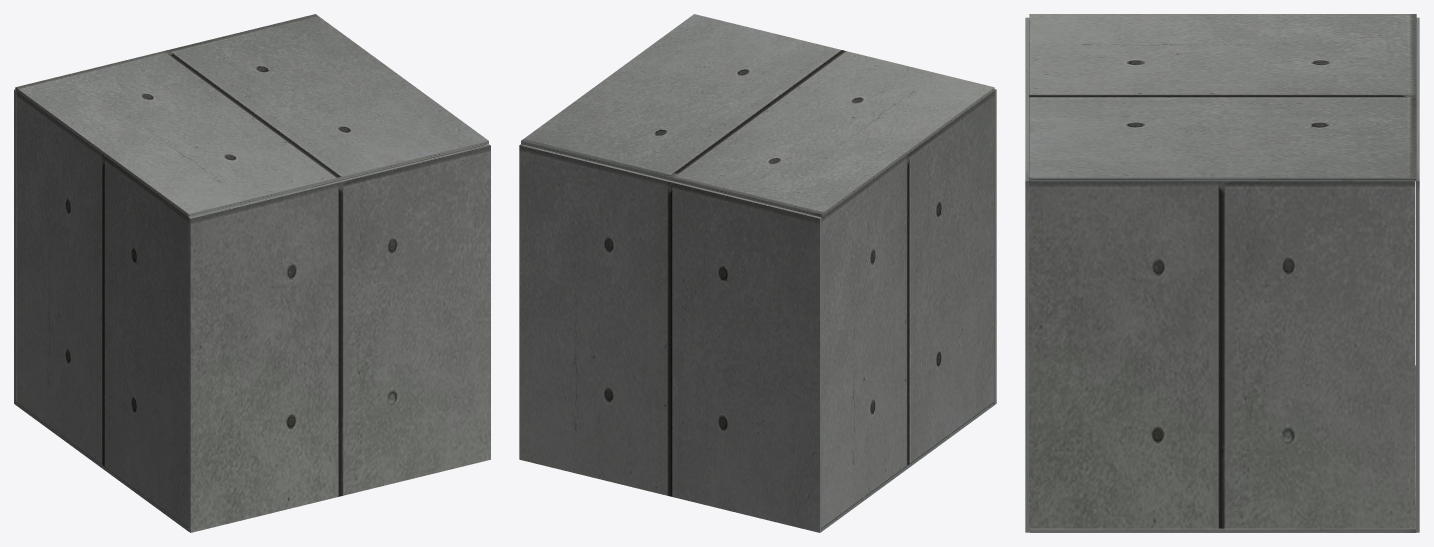
Rendered from room4.gltf.
3 views of the same model, side by side, from view 1: azimuth 30°, elevation 25°; view 2: azimuth 150°, elevation 25°; view 3: azimuth 270°, elevation 25° (orthographic). The views are drawn at different scales.
Visible parts, largest first — view 1: Cube.001, Cube.005, Cube.091, Cube.003, Cube; view 2: Cube.003, Cube.005, Cube.091, Cube.001, Cube; view 3: Cube.006, Cube.091, Cube, Cube.001, Cube.003.
Boxes of the visible parts, <box> form: Cube.001: <box>189,144,490,532</box>; Cube.005: <box>16,91,191,527</box>; Cube.091: <box>15,14,488,216</box>; Cube.003: <box>14,89,311,404</box>; Cube: <box>15,402,188,531</box>; Cube.003: <box>519,144,821,532</box>; Cube.005: <box>821,91,994,527</box>; Cube.091: <box>521,14,994,217</box>; Cube.001: <box>994,89,996,404</box>; Cube: <box>821,402,994,531</box>; Cube.006: <box>1029,179,1415,531</box>; Cube.091: <box>1029,14,1416,181</box>; Cube: <box>1029,365,1416,532</box>; Cube.001: <box>1025,17,1028,532</box>; Cube.003: <box>1416,17,1419,532</box>.
Size of the model in its own units: 10 by 10.11 by 10.18.
Materials: 7 (1 with a texture image).
